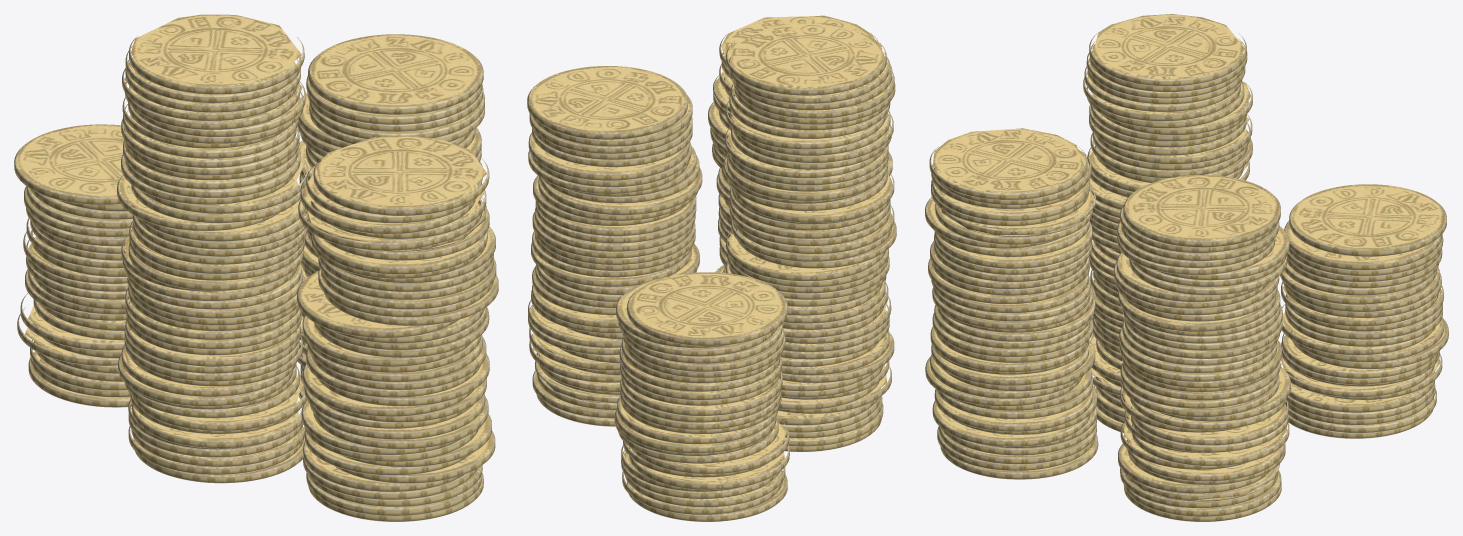
The model's file is gold_coins.glb.
3 renders of one model, left to right at view 1: azimuth 30°, elevation 25°; view 2: azimuth 150°, elevation 25°; view 3: azimuth 270°, elevation 25°, orthographic. The views are drawn at different scales.
Parts seen in each view (by area): view 1: CoinStack01.002, CoinStack01.001; view 2: CoinStack01.002, CoinStack01.001; view 3: CoinStack01.002, CoinStack01.001.
Part boxes in pixels (x1,y1,x2,y2): CoinStack01.002: [14, 14, 498, 521]; CoinStack01.001: [308, 34, 482, 114]; CoinStack01.002: [527, 15, 896, 521]; CoinStack01.001: [527, 66, 687, 138]; CoinStack01.002: [925, 14, 1448, 521]; CoinStack01.001: [1123, 175, 1280, 246].
Bounding box in the file's own units: 0.1295 × 0.1377 × 0.1814.
Materials: 1 (1 with a texture image).
